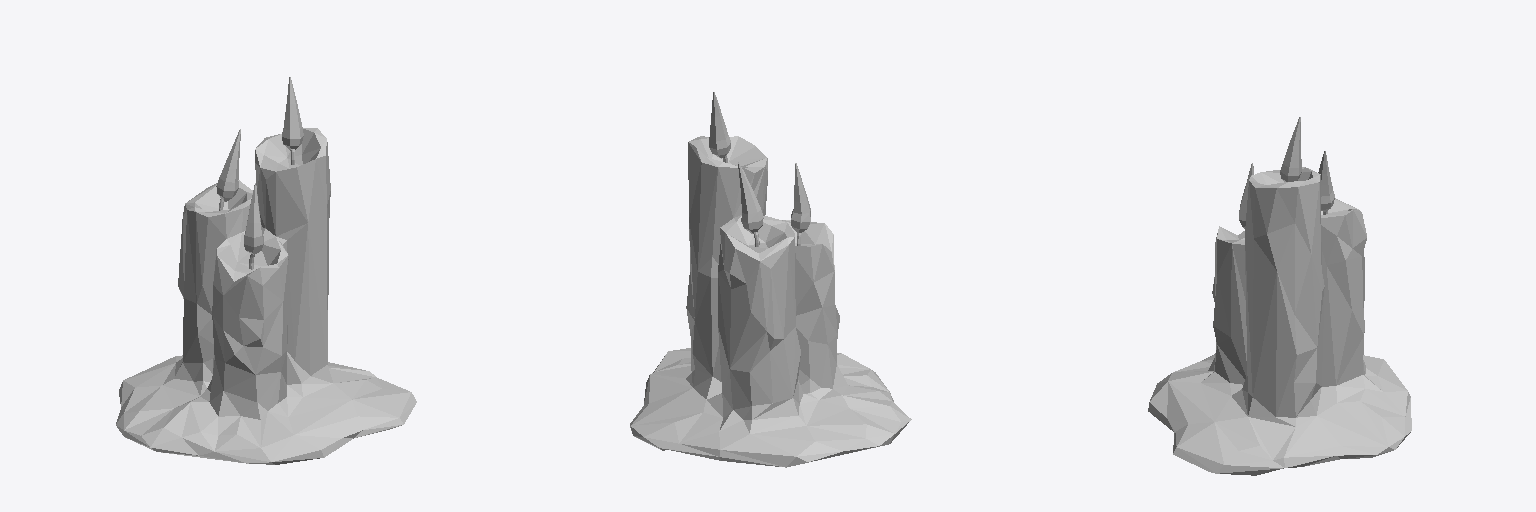
File: candle18.obj
3 renders of one model, left to right at view 1: azimuth 30°, elevation 25°; view 2: azimuth 150°, elevation 25°; view 3: azimuth 270°, elevation 25°, orthographic.
Visible parts, largest first — view 1: Object003, candleflame003, candleflame002, candleflame001; view 2: Object003, candleflame002, candleflame003, candleflame001; view 3: Object003, candleflame003, candleflame002.
Part boxes in pixels (bbox=[...]): Object003: bbox=[116, 128, 416, 464]; candleflame003: bbox=[282, 77, 303, 149]; candleflame002: bbox=[216, 129, 240, 201]; candleflame001: bbox=[244, 183, 263, 254]; Object003: bbox=[630, 136, 911, 467]; candleflame002: bbox=[738, 162, 763, 233]; candleflame003: bbox=[709, 92, 730, 158]; candleflame001: bbox=[791, 163, 810, 232]; Object003: bbox=[1148, 167, 1411, 475]; candleflame003: bbox=[1280, 117, 1301, 181]; candleflame002: bbox=[1318, 151, 1334, 211].
Size of the model in its own units: 1.05 by 1.24 by 0.9231.